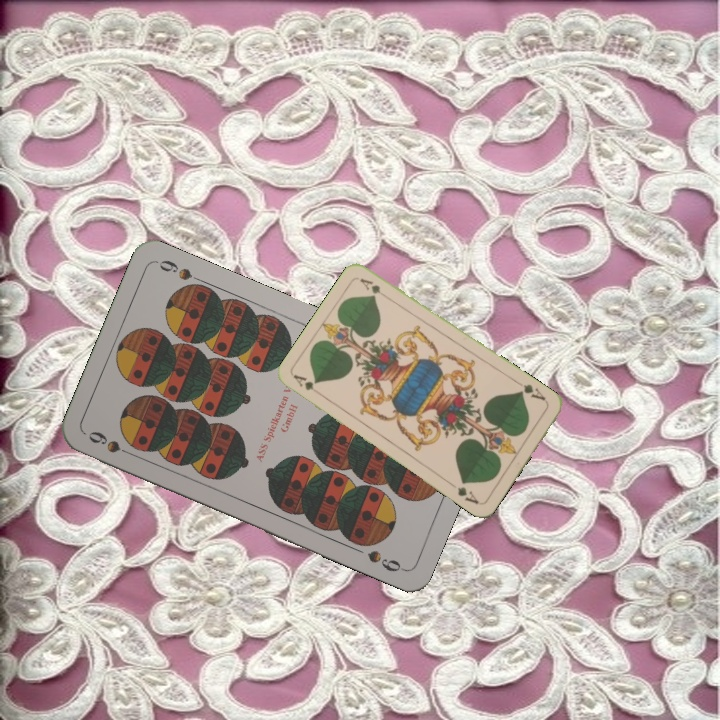GA: (513, 378, 549, 405), (290, 371, 316, 393)
S9: (84, 427, 139, 460)
